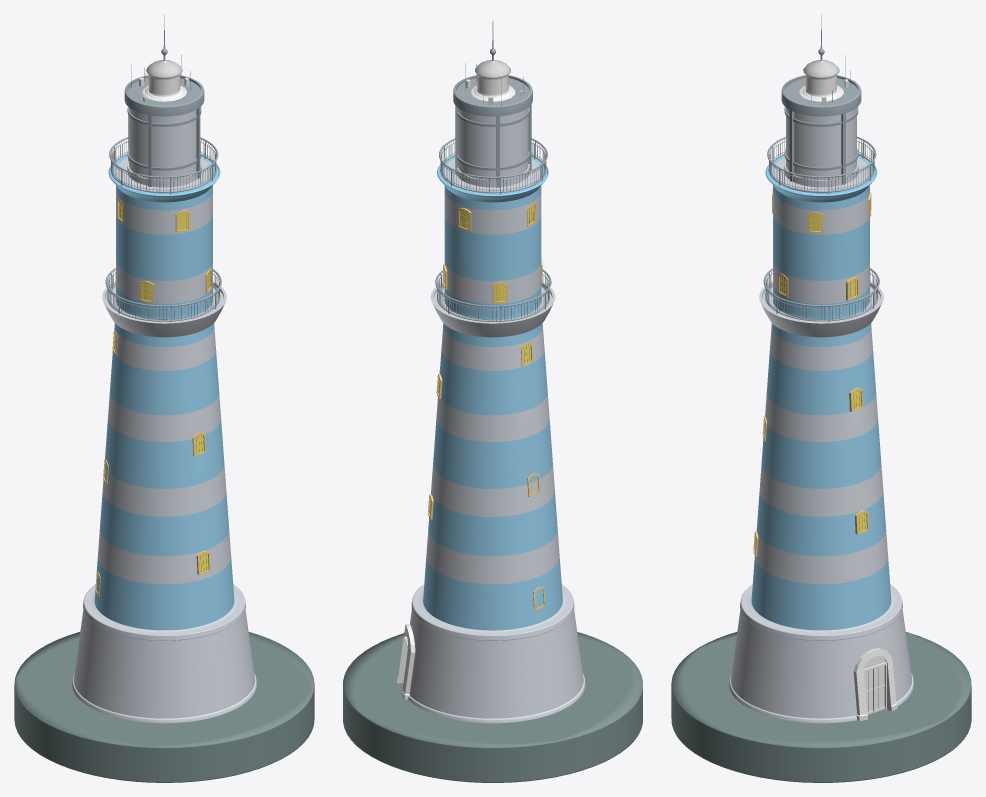
File: dengta.glb
3 views of the same model, side by side, from view 1: azimuth 30°, elevation 25°; view 2: azimuth 150°, elevation 25°; view 3: azimuth 270°, elevation 25° (orthographic).
Visible parts, largest first — view 1: tashen_002_Cylinder_039, dizuo_001_Cylinder_035, tading_001_Cylinder_003, tashen_001_Cylinder_034, CHUANGHU_Cylinder_031, weilan_001_Plane_000, weilan_002_Plane_001, ding_001_Cube_006; view 2: tashen_002_Cylinder_039, dizuo_001_Cylinder_035, tading_001_Cylinder_003, tashen_001_Cylinder_034, CHUANGHU_Cylinder_031, weilan_001_Plane_000, weilan_002_Plane_001, ding_001_Cube_006, men_001_Cylinder_002; view 3: tashen_002_Cylinder_039, dizuo_001_Cylinder_035, tashen_001_Cylinder_034, tading_001_Cylinder_003, men_001_Cylinder_002, CHUANGHU_Cylinder_031, weilan_001_Plane_000, weilan_002_Plane_001, ding_001_Cube_006.
Part boxes in pixels (x1=…): tashen_002_Cylinder_039: x1=72, y1=155, x2=256, y2=723; dizuo_001_Cylinder_035: x1=14, y1=632, x2=314, y2=782; tading_001_Cylinder_003: x1=129, y1=108, x2=196, y2=179; tashen_001_Cylinder_034: x1=124, y1=75, x2=204, y2=187; CHUANGHU_Cylinder_031: x1=95, y1=199, x2=212, y2=596; weilan_001_Plane_000: x1=109, y1=137, x2=218, y2=194; weilan_002_Plane_001: x1=105, y1=268, x2=221, y2=322; ding_001_Cube_006: x1=142, y1=14, x2=186, y2=101; tashen_002_Cylinder_039: x1=408, y1=156, x2=585, y2=723; dizuo_001_Cylinder_035: x1=343, y1=632, x2=642, y2=782; tading_001_Cylinder_003: x1=458, y1=108, x2=528, y2=179; tashen_001_Cylinder_034: x1=453, y1=75, x2=532, y2=187; CHUANGHU_Cylinder_031: x1=428, y1=203, x2=545, y2=610; weilan_001_Plane_000: x1=439, y1=138, x2=547, y2=194; weilan_002_Plane_001: x1=435, y1=269, x2=551, y2=322; ding_001_Cube_006: x1=470, y1=20, x2=515, y2=101; men_001_Cylinder_002: x1=397, y1=624, x2=415, y2=699; tashen_002_Cylinder_039: x1=729, y1=155, x2=913, y2=723; dizuo_001_Cylinder_035: x1=671, y1=632, x2=971, y2=782; tashen_001_Cylinder_034: x1=781, y1=75, x2=861, y2=187; tading_001_Cylinder_003: x1=786, y1=107, x2=856, y2=179; men_001_Cylinder_002: x1=853, y1=648, x2=897, y2=721; CHUANGHU_Cylinder_031: x1=753, y1=188, x2=871, y2=556; weilan_001_Plane_000: x1=767, y1=136, x2=876, y2=194; weilan_002_Plane_001: x1=763, y1=268, x2=879, y2=321; ding_001_Cube_006: x1=799, y1=14, x2=843, y2=101.
Bounding box in the file's own units: 1.29 × 3.35 × 1.29.
